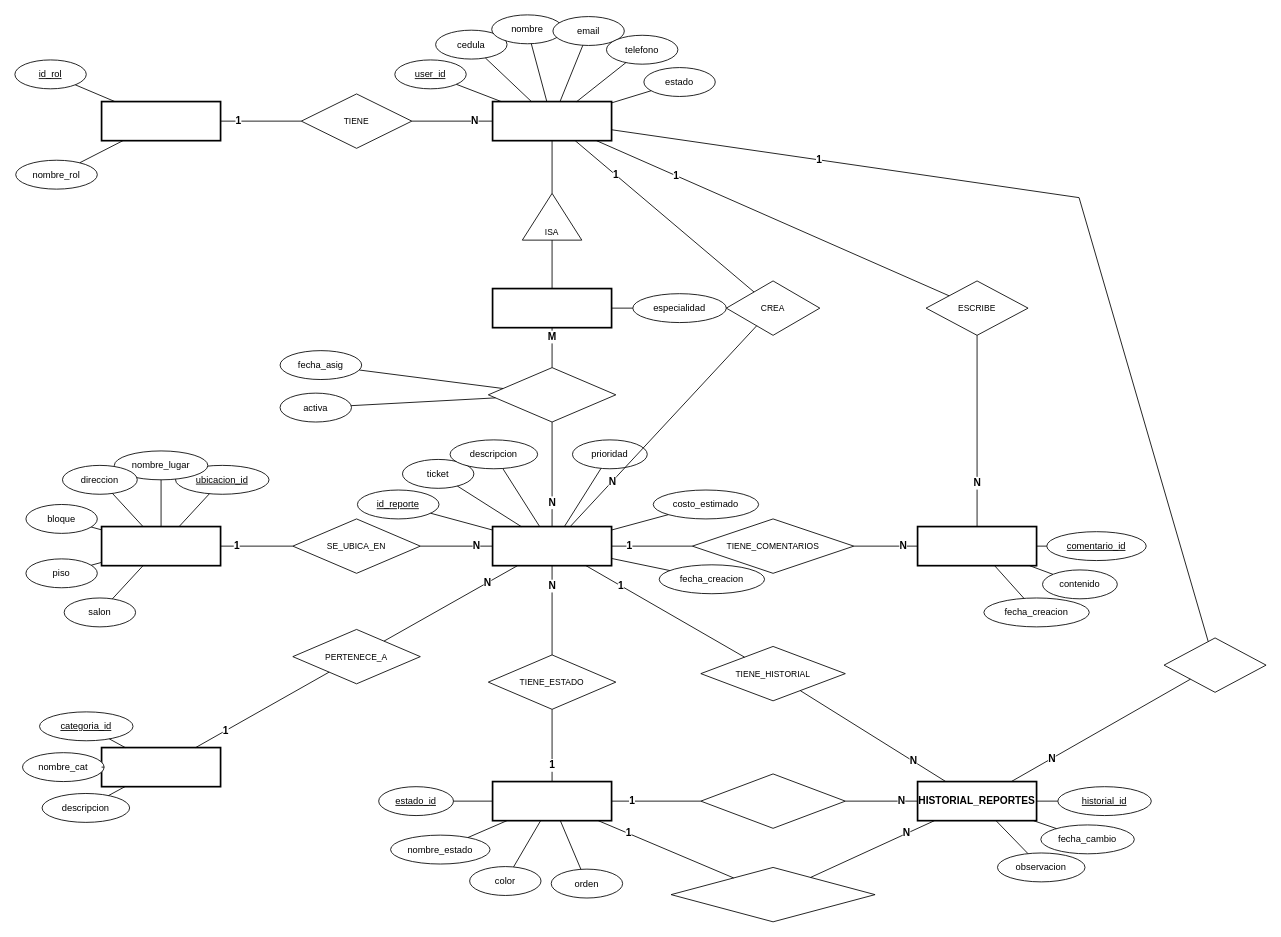
Some shapes in this 1281 by 937 pixel diagram are drawn without their labels. The shapes that lost their labels are listed below. From the top down, each one's centre as x and y in pixels, then its label:
point (160, 120): ROLES
point (551, 120): USUARIOS
point (551, 307): TECNICOS
point (551, 394): ASIGNADO_A
point (160, 545): UBICACIONES
point (551, 545): REPORTES
point (976, 545): COMENTARIOS
point (1214, 664): REALIZA
point (160, 766): CATEGORIAS
point (551, 800): ESTADOS
point (772, 800): REGISTRA_ESTADO
point (772, 894): REGISTRA_ESTADO_ANTERIOR
